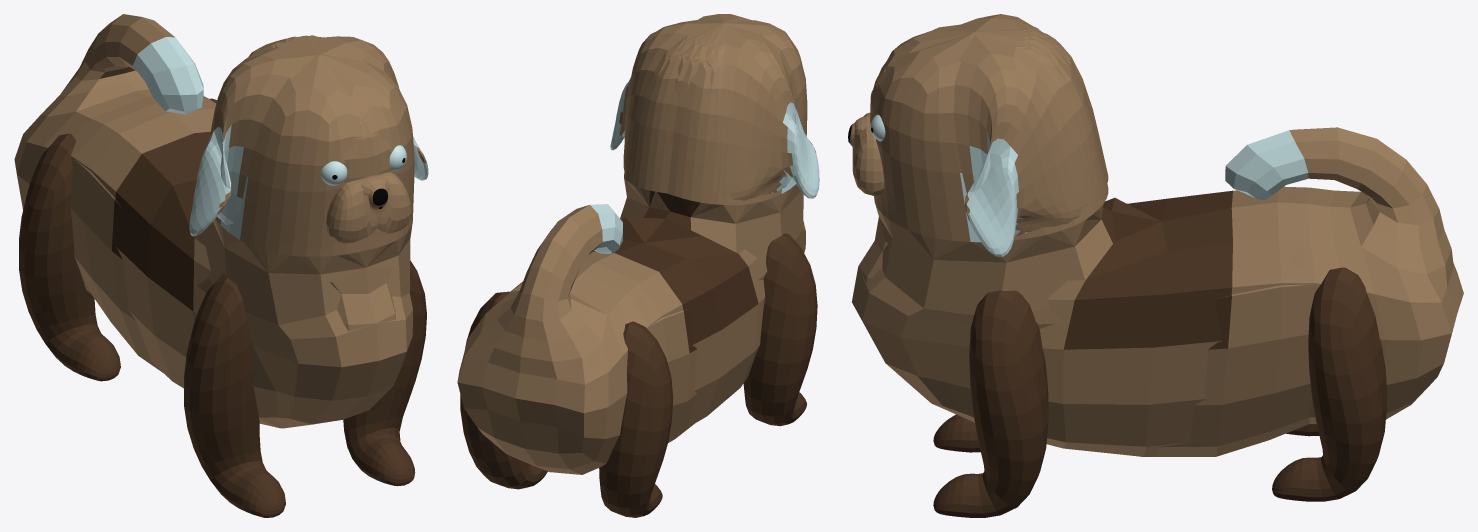
Rendered from Pepito.fbx.
3 renders of one model, left to right at view 1: azimuth 30°, elevation 25°; view 2: azimuth 150°, elevation 25°; view 3: azimuth 270°, elevation 25°, orthographic. The views are drawn at different scales.
Visible parts, largest first — view 1: Corpo, Perna.r, Perna.r.001, Perna.001; view 2: Corpo, Perna.r, Perna.r.001, Perna.r.002; view 3: Corpo, Perna.001, Perna.r.002, Perna.r.
Part boxes in pixels (x1,y1,x2,y2): Corpo: [14, 14, 428, 428]; Perna.r: [184, 273, 285, 517]; Perna.r.001: [19, 133, 120, 381]; Perna.001: [343, 260, 426, 486]; Corpo: [457, 14, 819, 474]; Perna.r: [743, 233, 817, 426]; Perna.r.001: [599, 321, 673, 517]; Perna.r.002: [460, 291, 547, 489]; Corpo: [848, 14, 1463, 456]; Perna.001: [933, 290, 1048, 517]; Perna.r.002: [1272, 267, 1386, 501]; Perna.r: [933, 414, 980, 452].
Bounding box in the file's own units: 459 × 821 × 1022.
